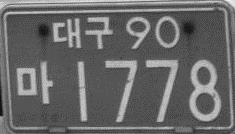0: (155, 15, 180, 49)
1: (74, 59, 91, 125)
7: (103, 58, 139, 125), (143, 58, 180, 123)
8: (188, 59, 223, 122)
9: (124, 15, 151, 50)
대구_O: (50, 15, 115, 49)
마: (13, 60, 54, 104)
